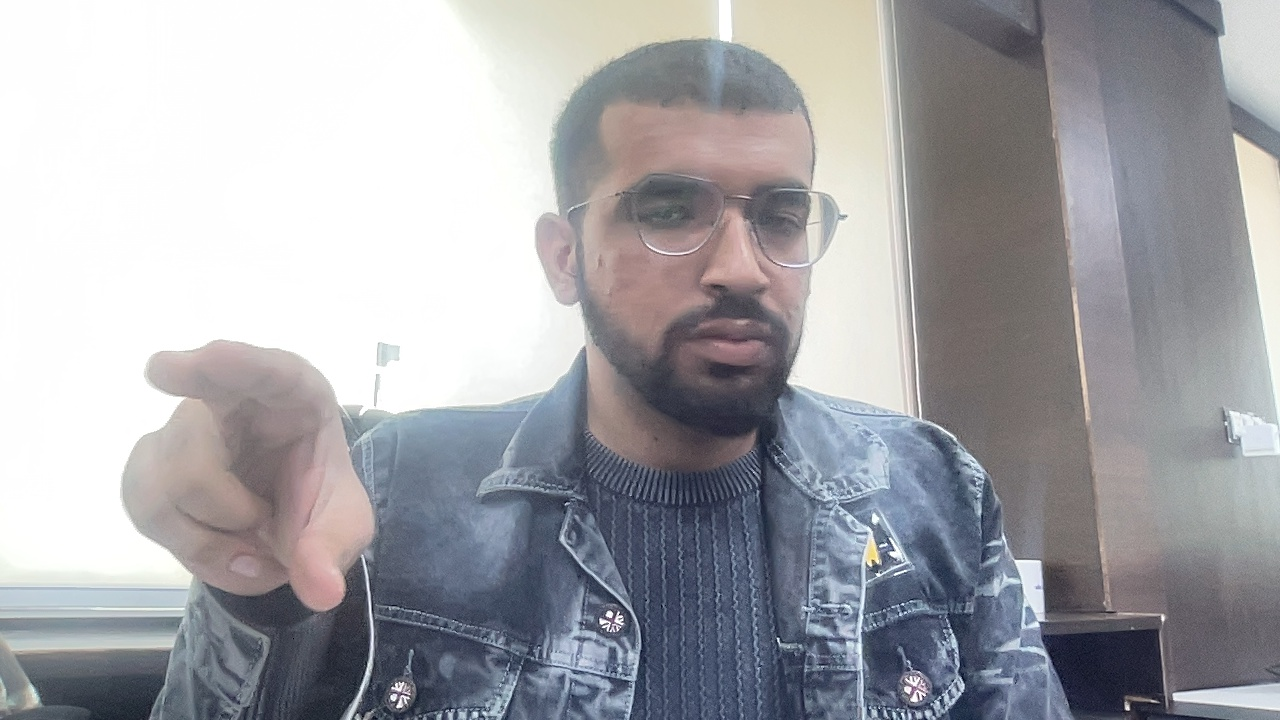No: (77, 328, 434, 644)
